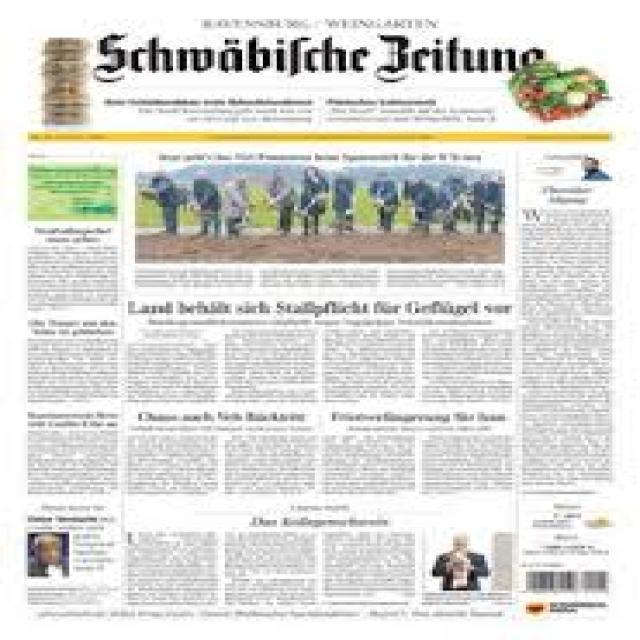Newspaper: (8, 0, 634, 631)
